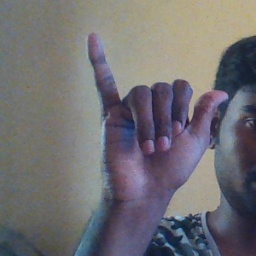J: (85, 31, 229, 196)
